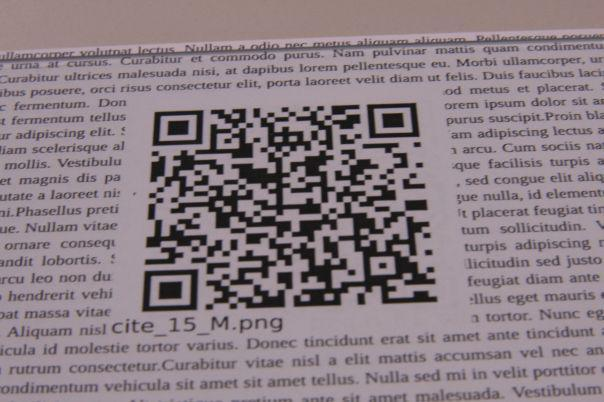qr_code: (142, 102, 439, 312)
